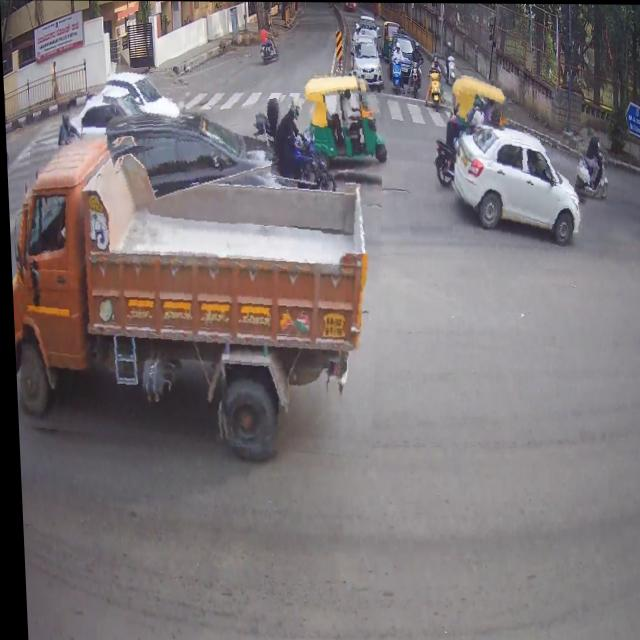Car: (107, 106, 294, 198), (449, 128, 589, 248), (67, 92, 178, 146), (103, 66, 188, 118), (353, 38, 387, 92)
Three-wheeler: (300, 70, 387, 174), (455, 77, 510, 129)
Truck: (9, 150, 385, 451)
Two-wheelers: (269, 96, 325, 183), (574, 134, 610, 196), (259, 27, 281, 59)
